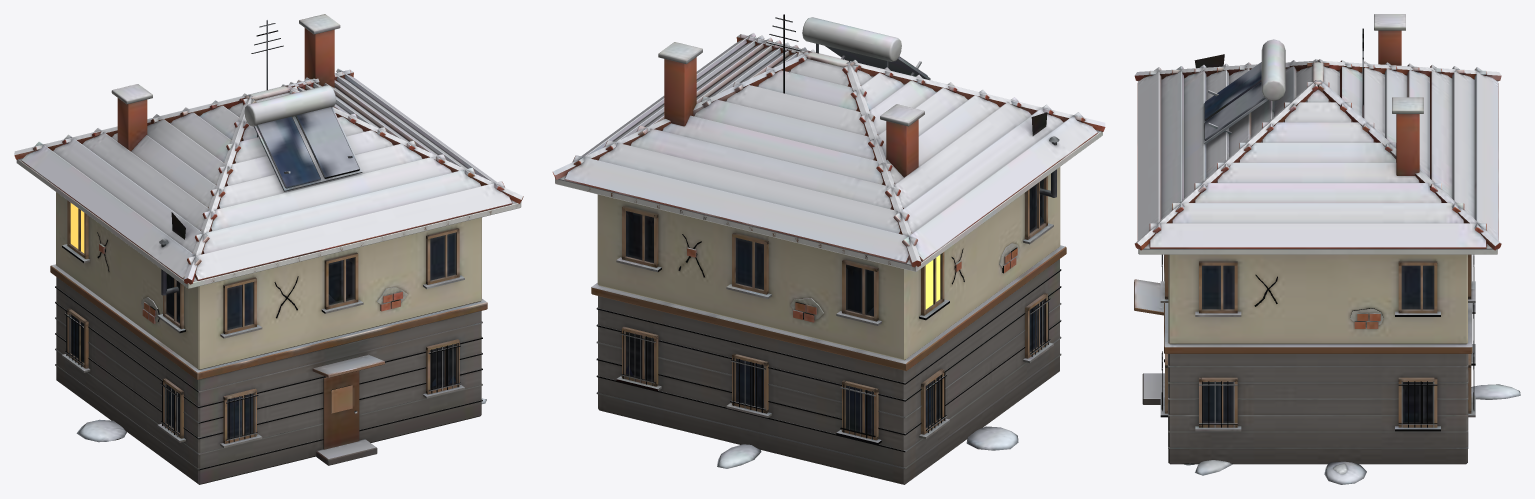
The model's file is bld_house_old.glb.
3 views of the same model, side by side, from view 1: azimuth 30°, elevation 25°; view 2: azimuth 150°, elevation 25°; view 3: azimuth 270°, elevation 25° (orthographic). The views are drawn at different scales.
Visible parts, largest first — view 1: bld_house_old, bld_house_old_glow; view 2: bld_house_old, bld_house_old_glow; view 3: bld_house_old.
Boxes of the visible parts, <box> form: bld_house_old: <box>14,14,523,484</box>; bld_house_old_glow: <box>70,203,84,253</box>; bld_house_old: <box>552,14,1105,484</box>; bld_house_old_glow: <box>925,255,940,309</box>; bld_house_old: <box>1134,14,1520,484</box>.
Size of the model in its own units: 10.17 by 9.66 by 9.04.
Materials: 2 (1 with a texture image).
